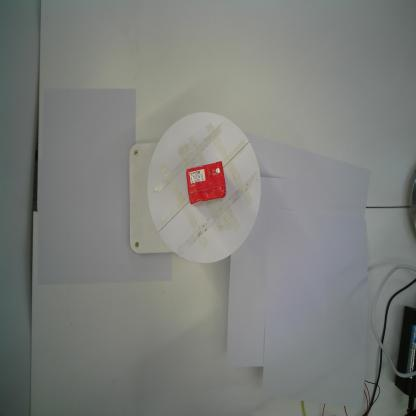Milk: (184, 158, 228, 208)
